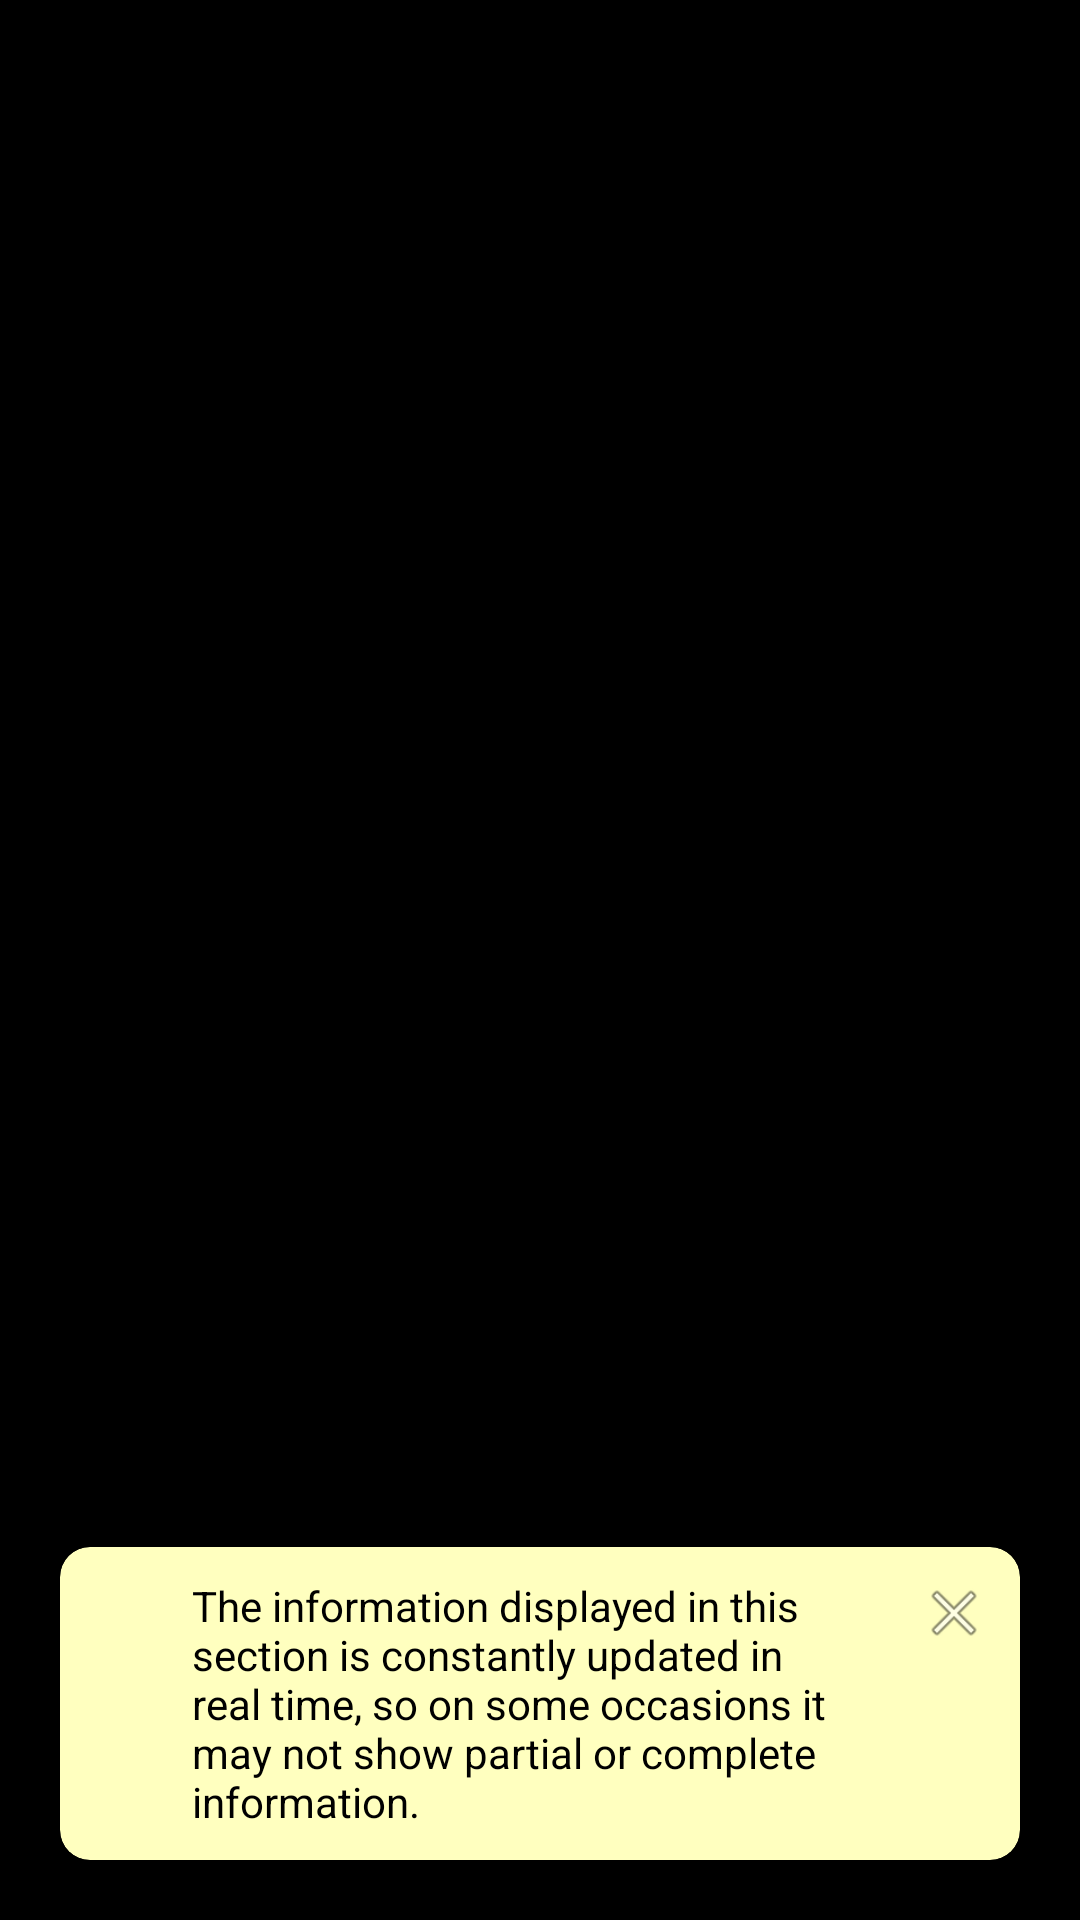

Icons on this 1080×1920 Android screen, each with the point to tap as (x=x, y=y):
close clear cancel: (x=954, y=1613)
